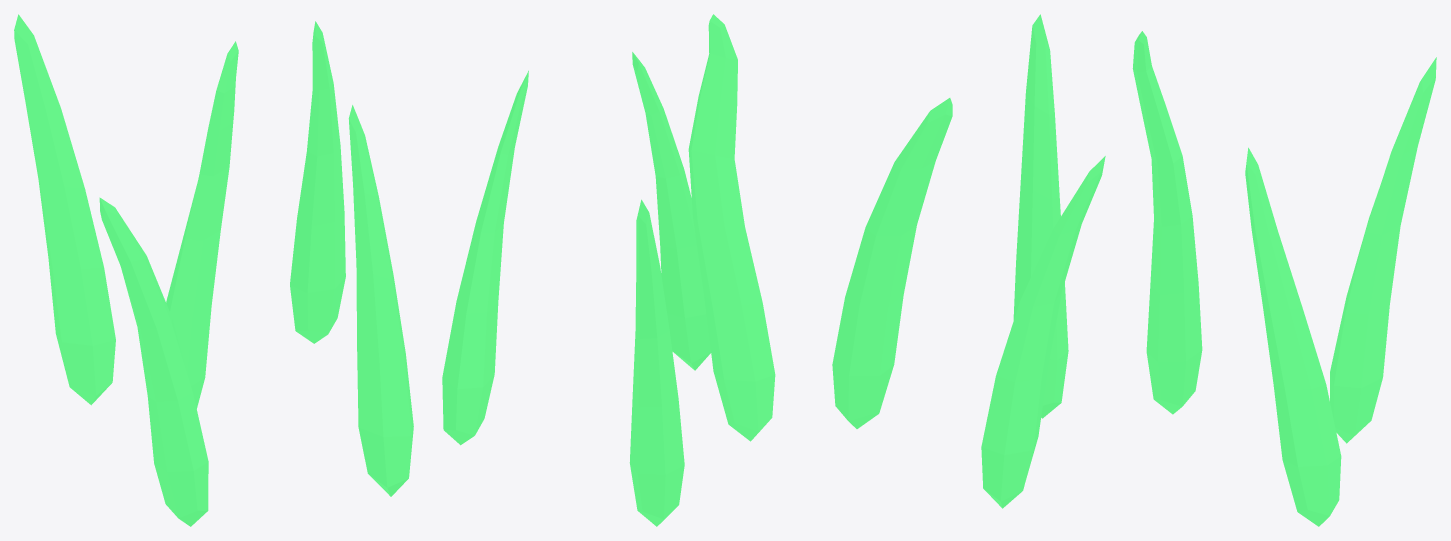
Rendered from grass_type_05.glb.
The picture shows the model from 3 angles, left to right: view 1: azimuth 30°, elevation 25°; view 2: azimuth 150°, elevation 25°; view 3: azimuth 270°, elevation 25°; orthographic projection.
Parts seen in each view (by area): view 1: Cylinder; view 2: Cylinder; view 3: Cylinder.
Boxes of the visible parts, x1,y1,x2,y2 form: Cylinder: (14,14,413,526); Cylinder: (442,14,952,526); Cylinder: (981,14,1436,526).
Bounding box in the file's own units: 0.3086 × 0.3378 × 0.3204.
